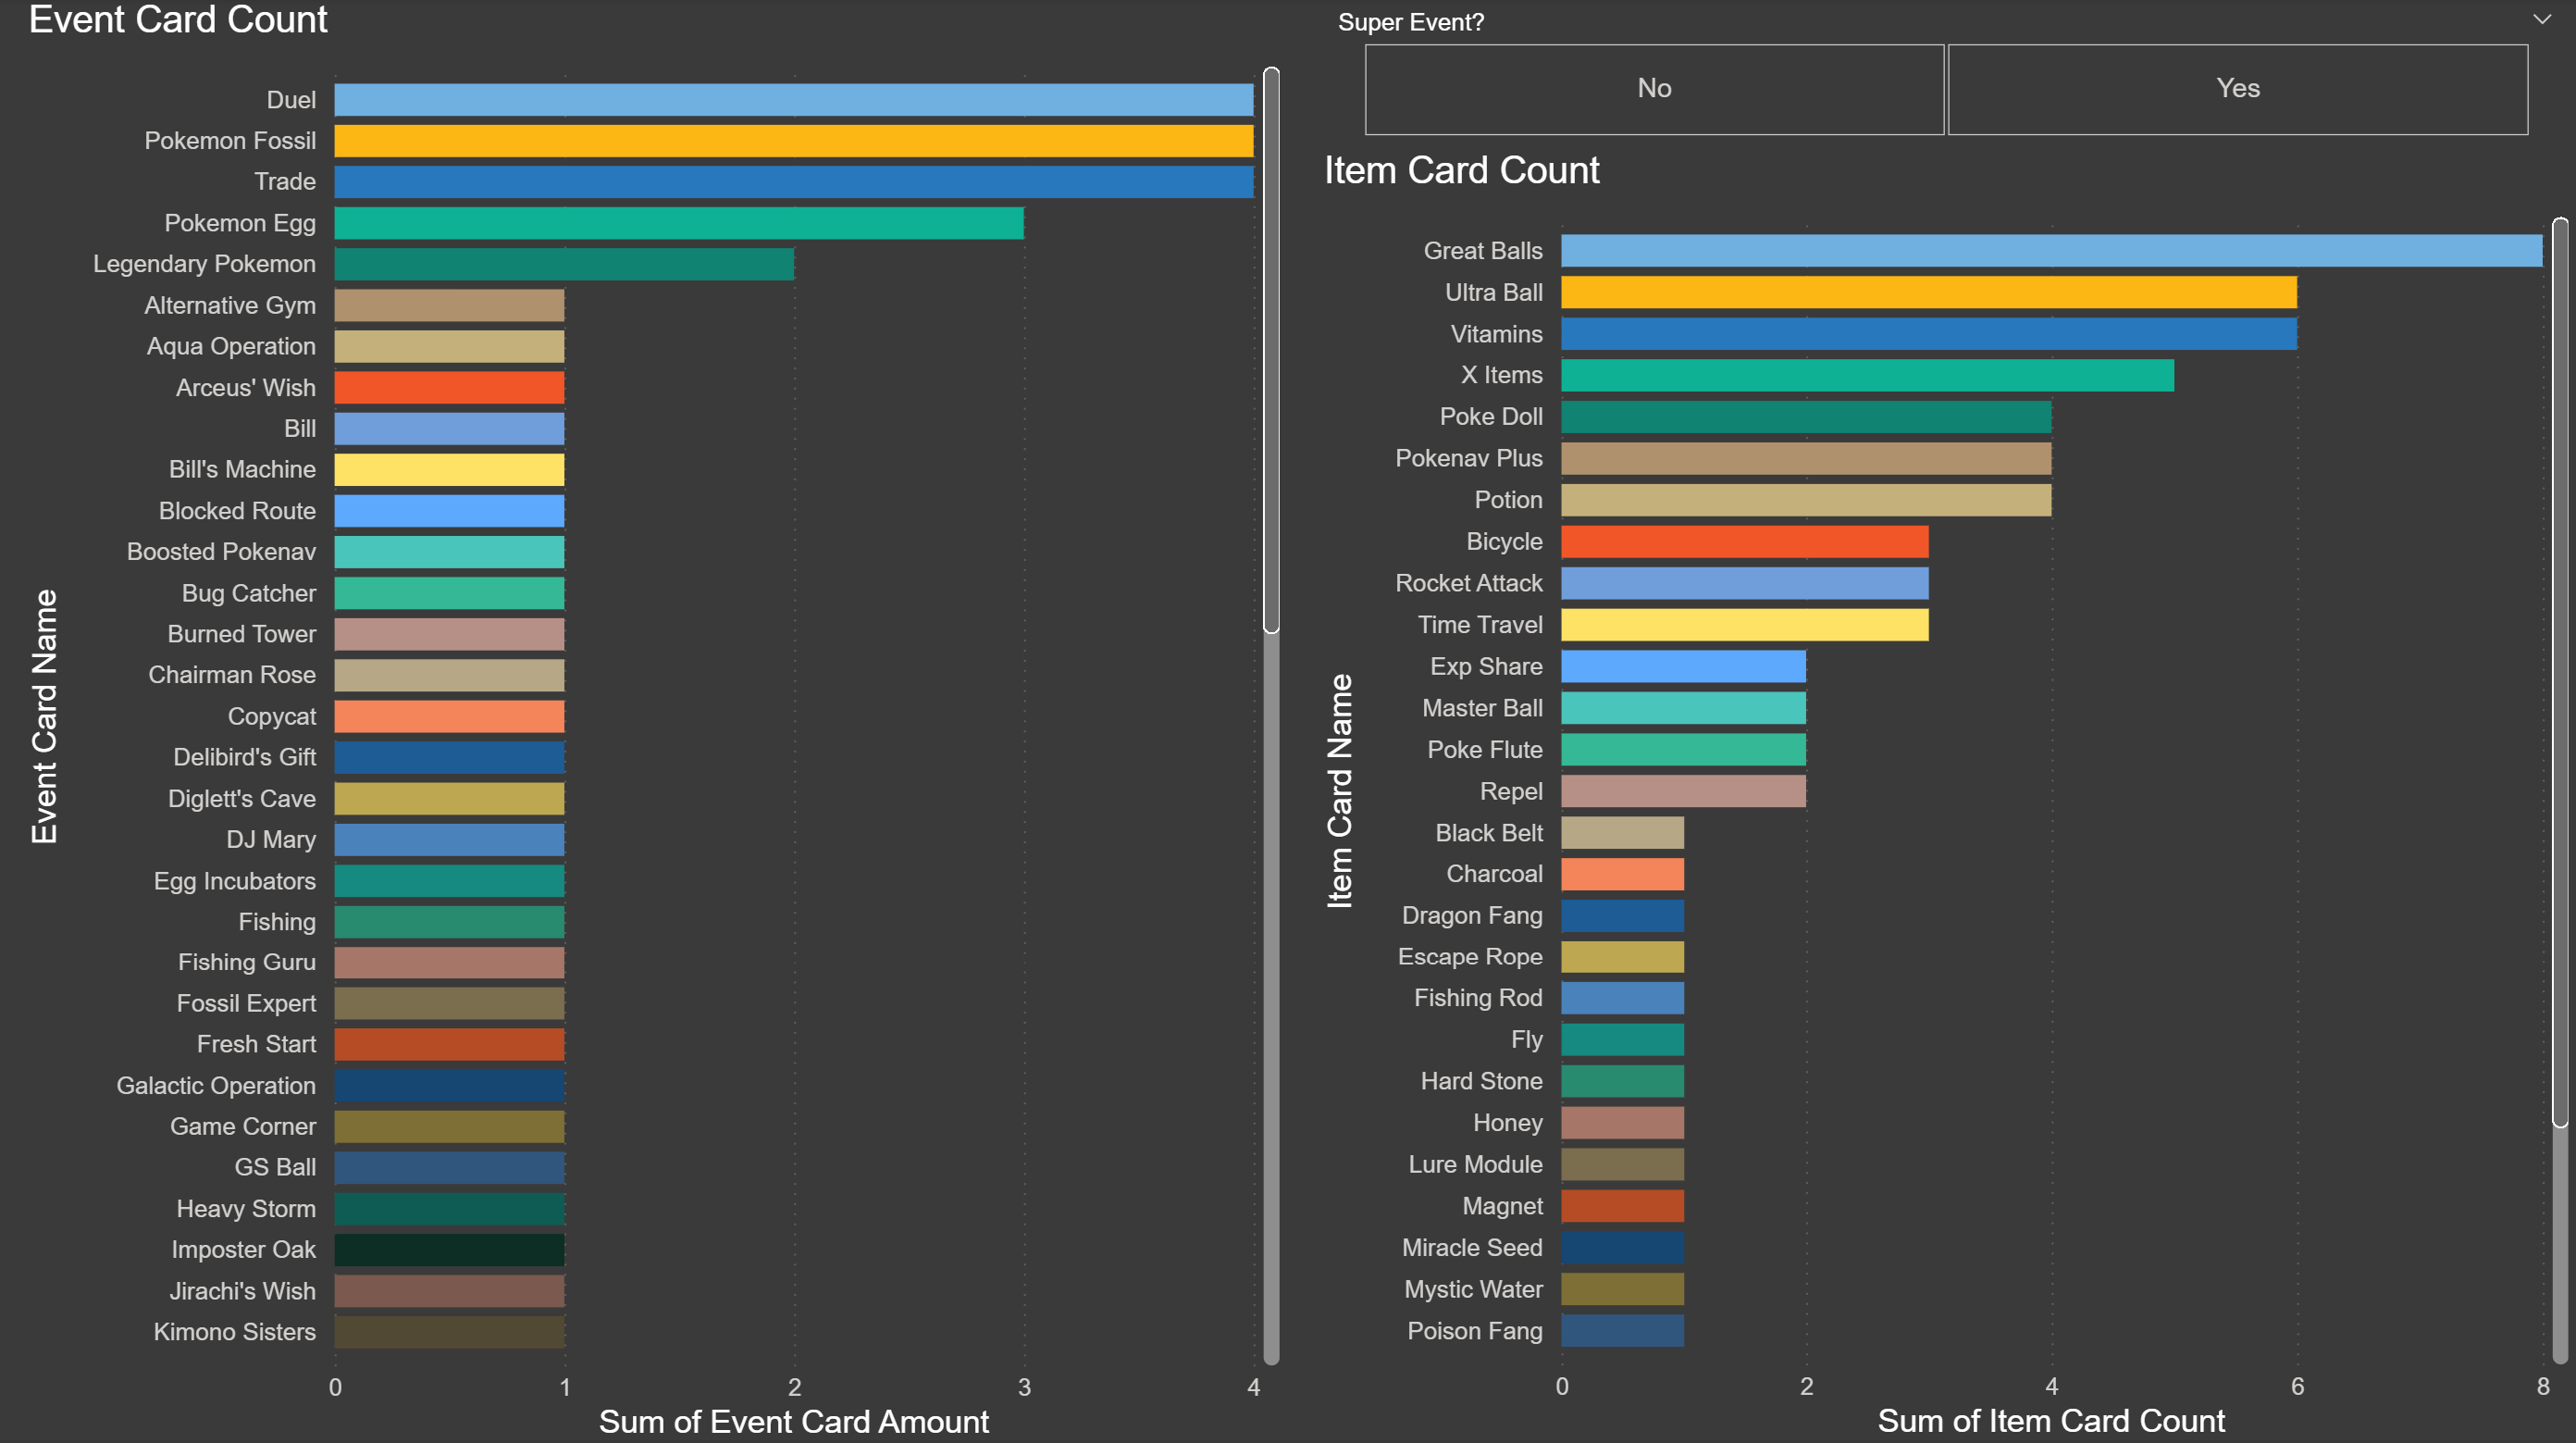

What the dashboard file says about the page in this screenshot:
{"tool":"powerbi","page":{"name":"Item and Event Cards","canvas":[1280,720],"ordinal":6},"visuals":[{"type":"barChart","title":"Event Card Count","fields":{"Category":["Event Cards.Event Card Name"],"Y":["Sum(Event Cards.Event Card Amount)"],"Series":["Event Cards.Event Card Name"]},"box":[9.8,0,630.7,720.2],"z":0},{"type":"slicer","fields":{"Values":["Event Cards.Super Event"]},"box":[651.5,0,628.2,74.8],"z":1000},{"type":"barChart","title":"Item Card Count","fields":{"Category":["Item Cards.Item Card Name"],"Y":["Sum(Item Cards.Item Card Count)"],"Series":["Item Cards.Item Card Name"]},"box":[652,75,628,645],"z":2000}]}

Visuals, with their boxes in screenshot pixels (x1, y1, x2, y2), scaled from the page's 1280x720 canvas onto the 2576x1443 screenshot:
"Event Card Count" barChart: {"left": 19, "top": 0, "right": 1289, "bottom": 1442}
slicer - Event Cards.Super Event: {"left": 1311, "top": 0, "right": 2575, "bottom": 150}
"Item Card Count" barChart: {"left": 1312, "top": 150, "right": 2575, "bottom": 1442}
